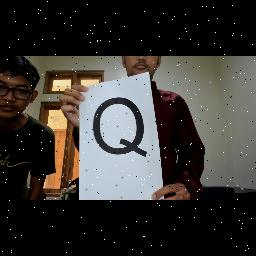q: (88, 96, 154, 162)
